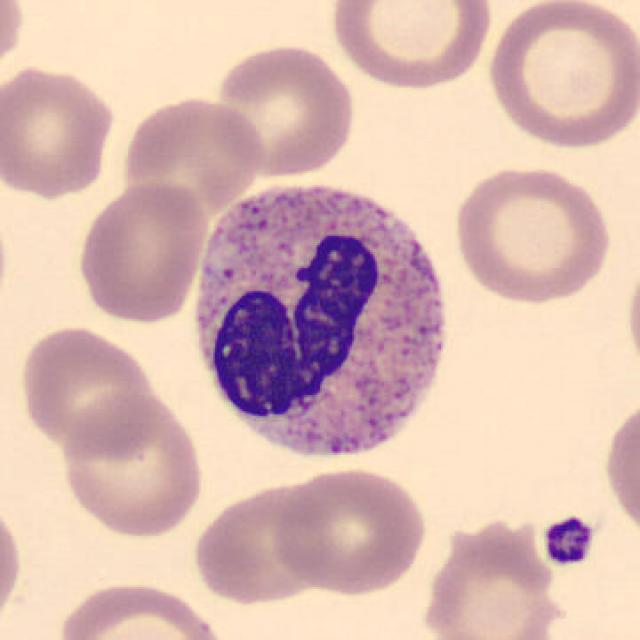Neutrophil: (183, 168, 462, 483)
Platelets: (539, 512, 597, 570)
RBC: (446, 160, 615, 305), (482, 0, 638, 152), (57, 390, 208, 541), (268, 463, 428, 598), (212, 40, 358, 182), (73, 176, 211, 324), (414, 511, 571, 640), (188, 474, 334, 606), (16, 322, 158, 457), (119, 92, 269, 217), (0, 60, 121, 201), (325, 0, 495, 93), (51, 576, 234, 640), (599, 392, 640, 548), (0, 492, 25, 636), (622, 243, 640, 388), (0, 0, 28, 83)
